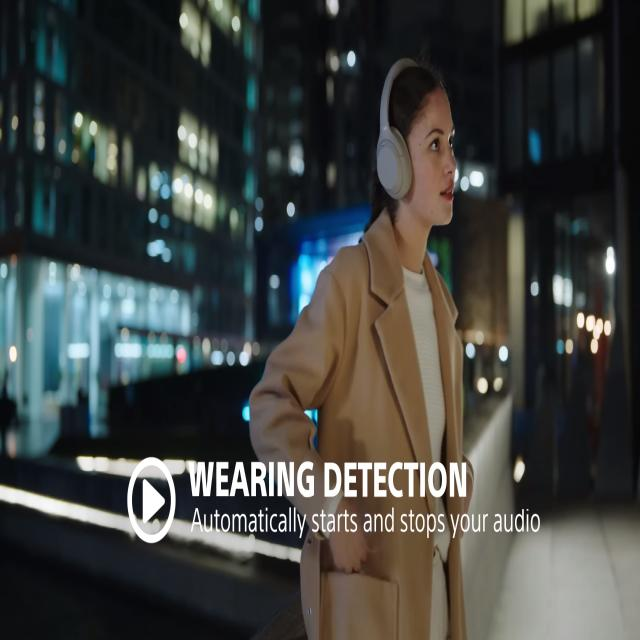Headphone: (376, 59, 418, 202)
